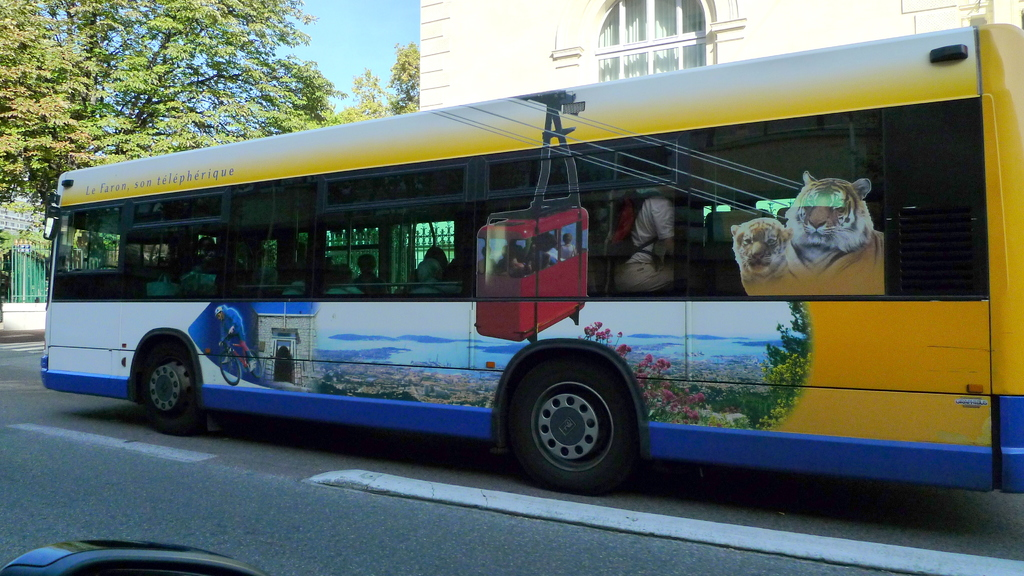Bus: (37, 21, 1023, 500)
